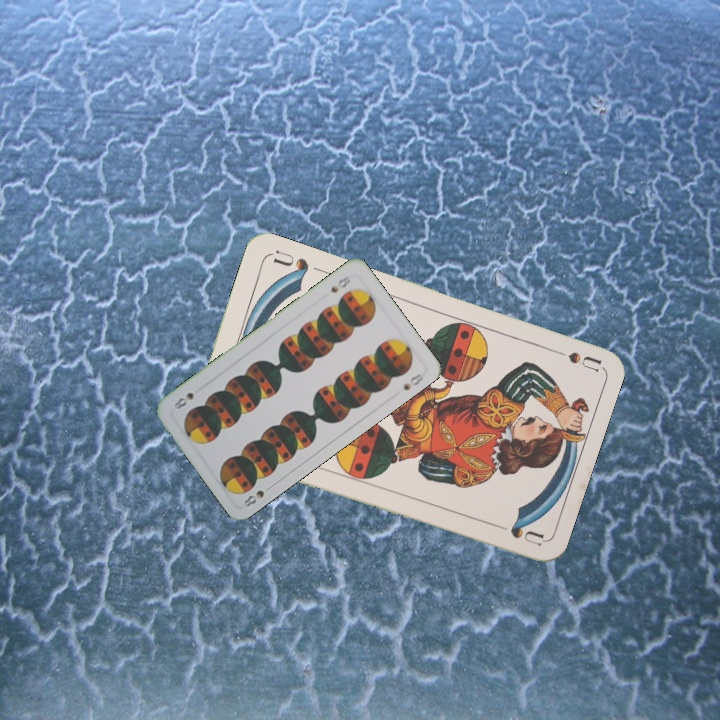S8: (239, 481, 276, 509), (326, 272, 353, 295)
SU: (543, 343, 602, 374)
